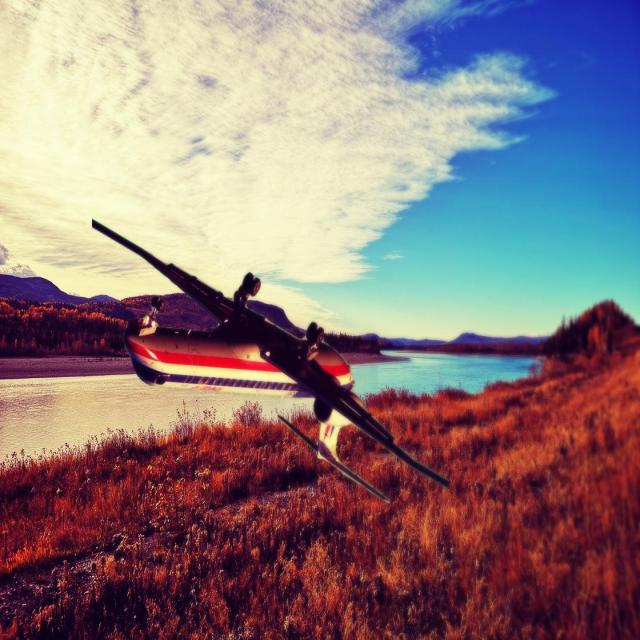airplane: (90, 218, 450, 504)
